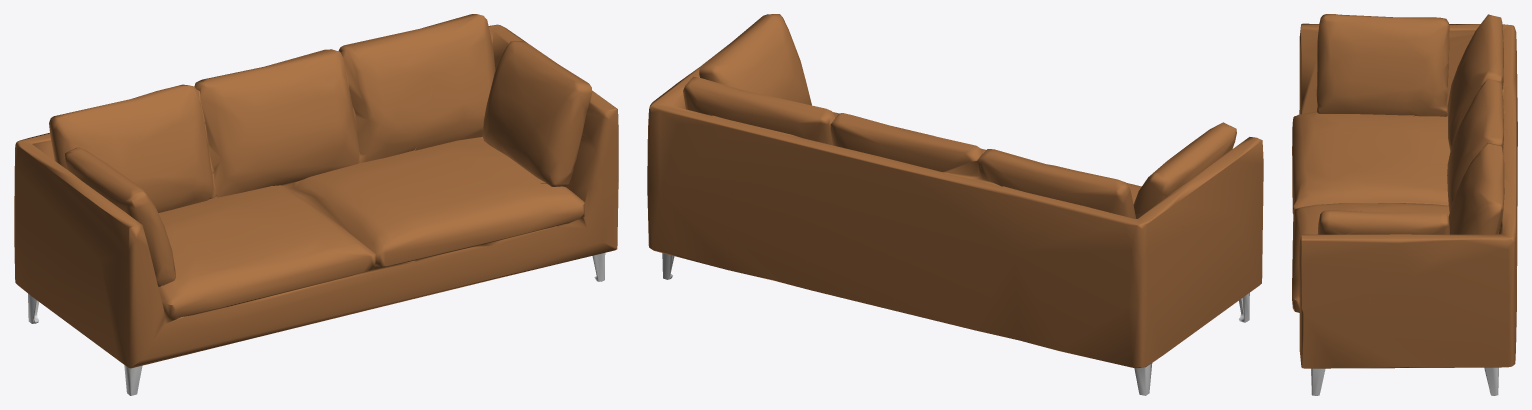
The model's file is 17-STOCKHOLM 3 seater sofa - Seglora natural leather (80245051).glb.
3 views of the same model, side by side, from view 1: azimuth 30°, elevation 25°; view 2: azimuth 150°, elevation 25°; view 3: azimuth 270°, elevation 25° (orthographic). The views are drawn at different scales.
Parts seen in each view (by area): view 1: ProcessedMeshNode; view 2: ProcessedMeshNode; view 3: ProcessedMeshNode.
Part boxes in pixels (bbox=[...]): ProcessedMeshNode: bbox=[14, 14, 618, 395]; ProcessedMeshNode: bbox=[647, 14, 1263, 395]; ProcessedMeshNode: bbox=[1292, 14, 1517, 395].
Bounding box in the file's own units: 2.14 × 0.8407 × 0.9361.
Materials: 1 (1 with a texture image).
